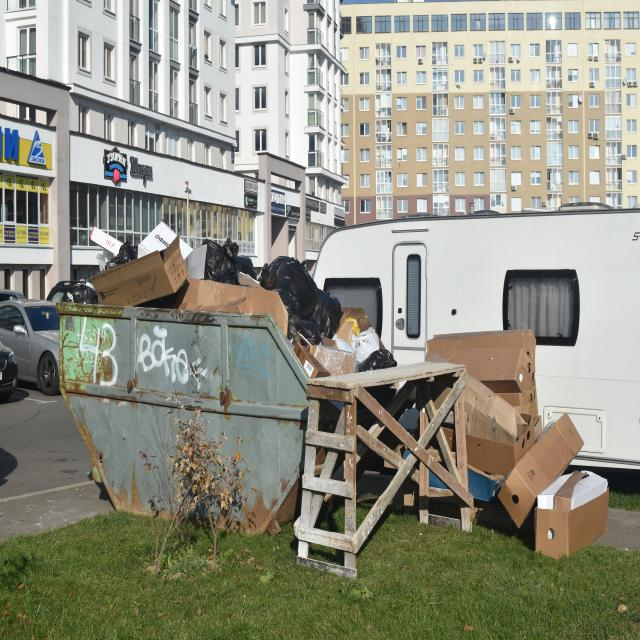entulho: (428, 328, 608, 554)
lixo domiciliar: (73, 222, 262, 322), (260, 258, 344, 357), (299, 314, 400, 385)
